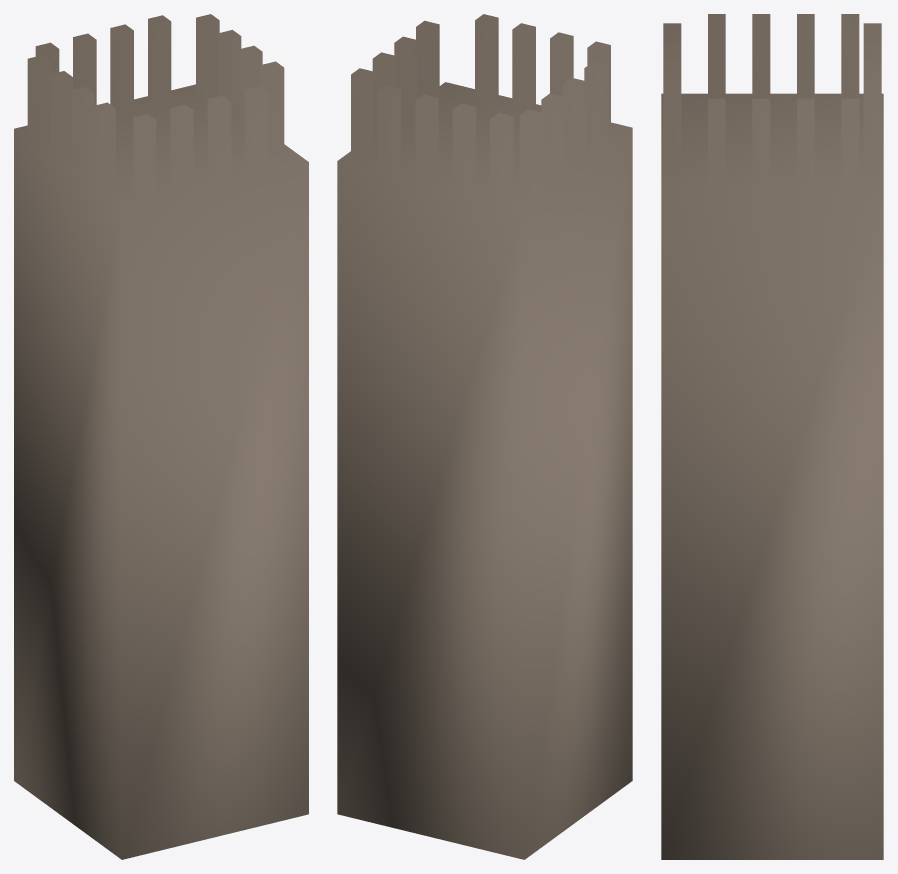
File: guard_tower.obj
3 renders of one model, left to right at view 1: azimuth 30°, elevation 25°; view 2: azimuth 150°, elevation 25°; view 3: azimuth 270°, elevation 25°, orthographic. The views are drawn at different scales.
Parts seen in each view (by area): view 1: building; view 2: building; view 3: building.
Part boxes in pixels (x1,y1,x2,y2): building: (14, 14, 308, 859); building: (337, 14, 632, 859); building: (661, 14, 883, 859).
Size of the model in its own units: 1.5 by 5.6 by 1.5.
